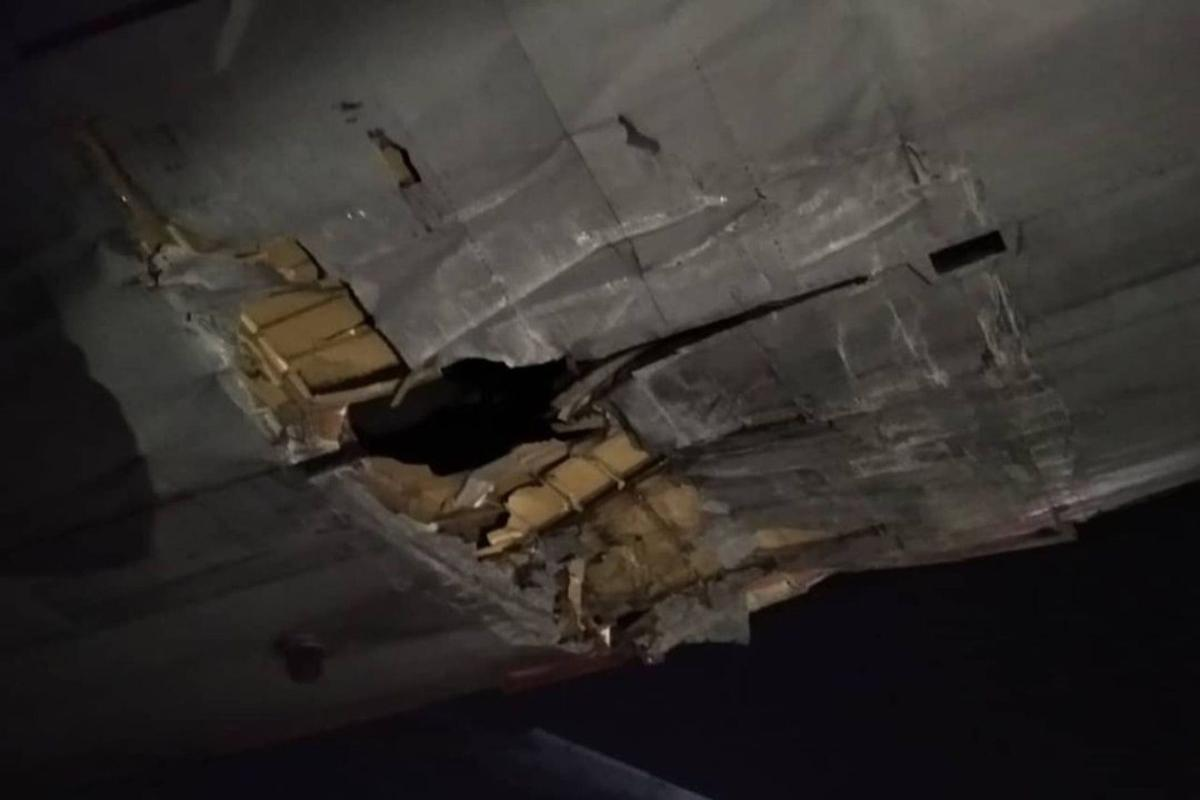Fuselage_damage: (76, 112, 1089, 660), (329, 462, 776, 661), (135, 218, 406, 462), (78, 131, 325, 323), (591, 276, 867, 401), (349, 358, 578, 474), (227, 282, 407, 422), (580, 474, 732, 622), (355, 440, 571, 536), (496, 431, 652, 542), (553, 351, 640, 422), (636, 474, 706, 532), (589, 430, 653, 480), (367, 129, 419, 188), (617, 115, 659, 154)
